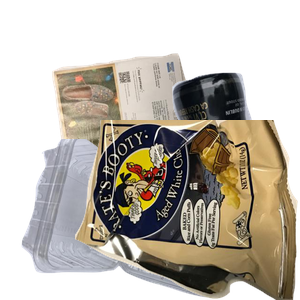glass: (106, 70, 300, 250)
paper: (49, 51, 235, 212)
plastic: (19, 139, 249, 300)
trash: (75, 120, 300, 300)
